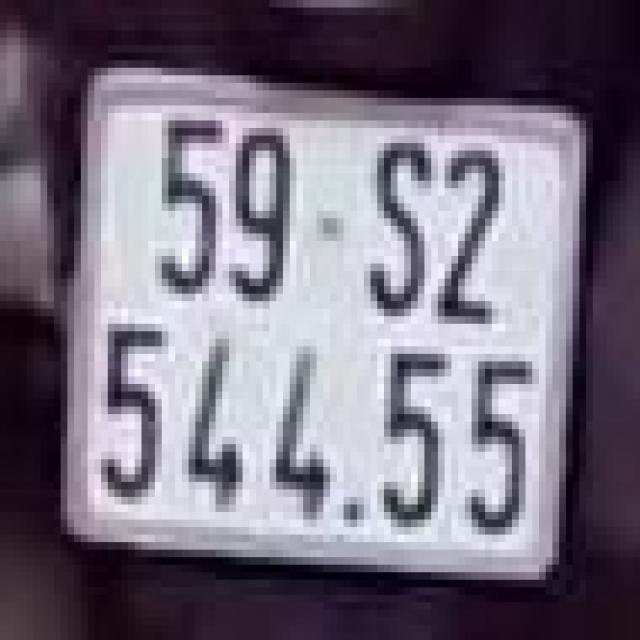2: (434, 136, 516, 332)
4: (266, 328, 334, 538), (189, 320, 256, 523)
5: (88, 316, 168, 527), (374, 335, 455, 538), (465, 343, 539, 561), (145, 113, 226, 301)
9: (226, 120, 300, 308)
S: (364, 117, 438, 335)
